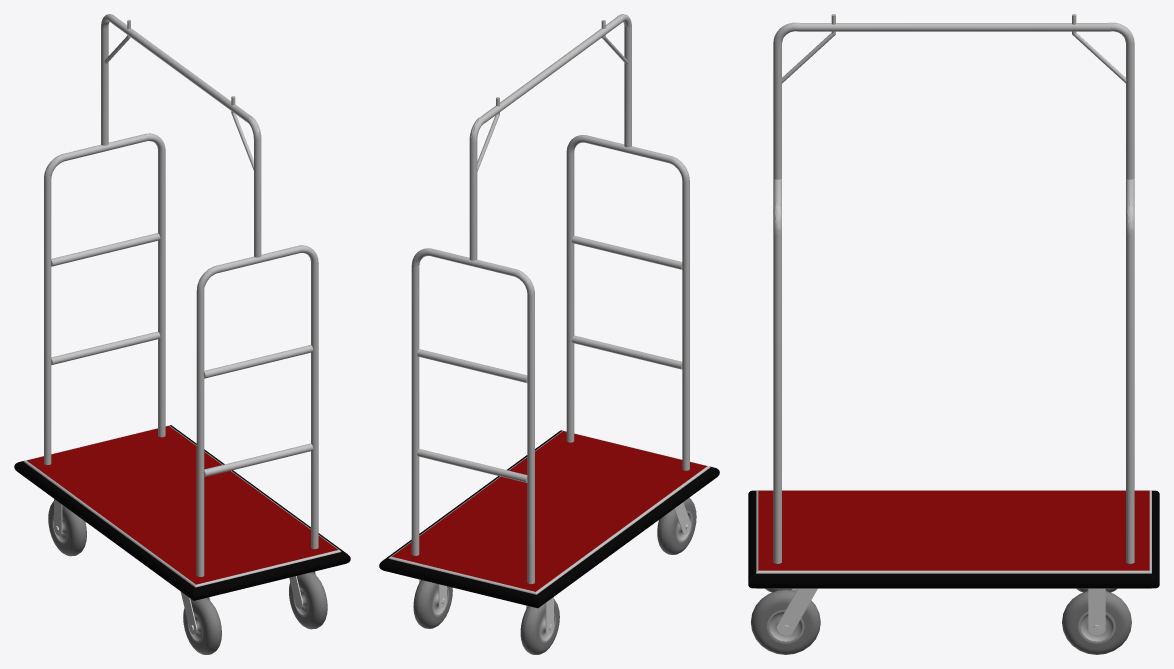
Rendered from Hotel Cart.dae.
3 renders of one model, left to right at view 1: azimuth 30°, elevation 25°; view 2: azimuth 150°, elevation 25°; view 3: azimuth 270°, elevation 25°, orthographic. The views are drawn at different scales.
Visible parts, largest first — view 1: Luggage_Cart_Bed (×3), Cart_Bars (×6), Cart_Wheel (×3), group_8; view 2: Luggage_Cart_Bed (×3), Cart_Bars (×6), group_8, Cart_Wheel (×3); view 3: Luggage_Cart_Bed (×3), Cart_Bars (×2), group_8, Cart_Wheel (×2), group_3, group_0.
Part boxes in pixels (x1=…): Luggage_Cart_Bed (×3): x1=14, y1=425, x2=350, y2=600; Cart_Bars (×6): x1=44, y1=133, x2=318, y2=576; Cart_Wheel (×3): x1=48, y1=501, x2=327, y2=654; group_8: x1=101, y1=14, x2=261, y2=257; Luggage_Cart_Bed (×3): x1=379, y1=430, x2=719, y2=608; Cart_Bars (×6): x1=411, y1=135, x2=689, y2=583; group_8: x1=469, y1=14, x2=631, y2=260; Cart_Wheel (×3): x1=413, y1=498, x2=696, y2=654; Luggage_Cart_Bed (×3): x1=748, y1=490, x2=1159, y2=588; Cart_Bars (×2): x1=773, y1=178, x2=1134, y2=563; group_8: x1=773, y1=22, x2=1134, y2=179; Cart_Wheel (×2): x1=750, y1=589, x2=1131, y2=654; group_3: x1=776, y1=588, x2=817, y2=635; group_0: x1=1088, y1=588, x2=1105, y2=635.
Size of the model in its own units: 24 by 47 by 76.69.
